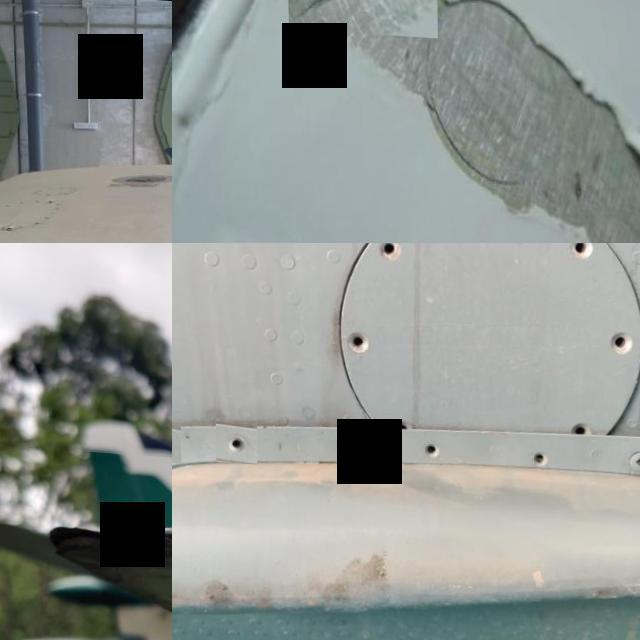Missing_Fastener: (594, 309, 640, 362), (378, 396, 427, 443), (334, 315, 380, 364), (556, 398, 600, 447), (327, 421, 370, 465), (215, 418, 256, 462), (361, 243, 413, 271), (520, 431, 558, 469), (416, 426, 452, 461), (557, 243, 604, 267), (172, 421, 180, 461)
